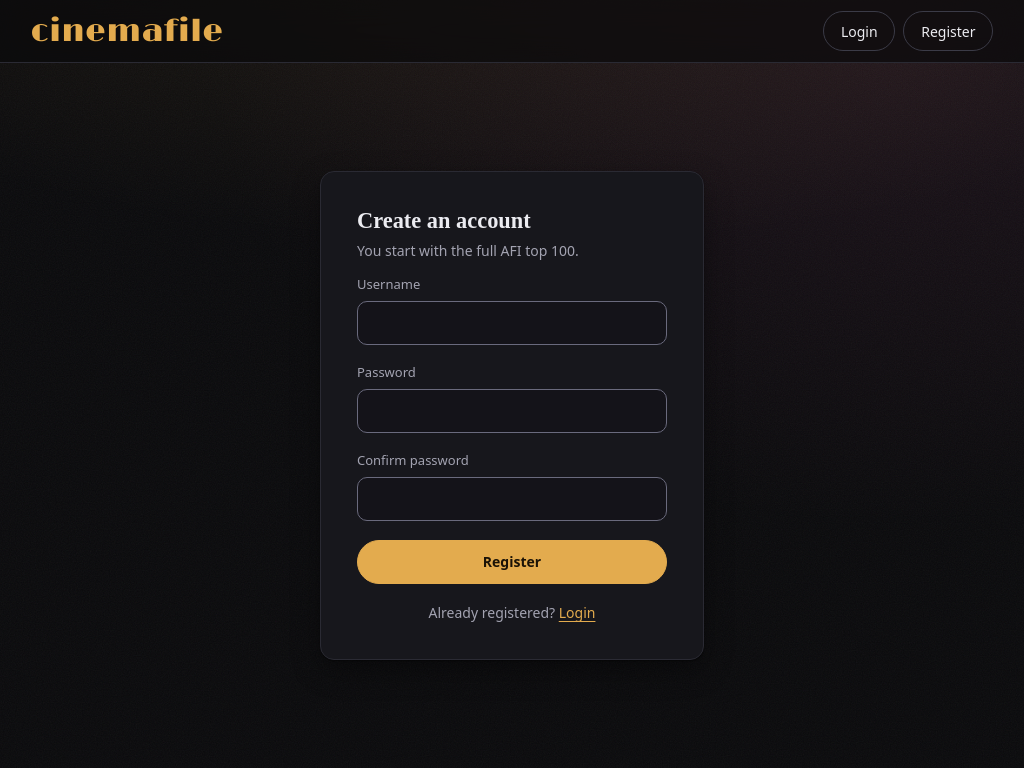
Scenario: RegistrationForm › rejects a short password without troubling the server
The image size is (1024, 768).
Type "alice" into the field labelled "Username". click: [512, 323]
box: x1=357 y1=301 x2=667 y2=345
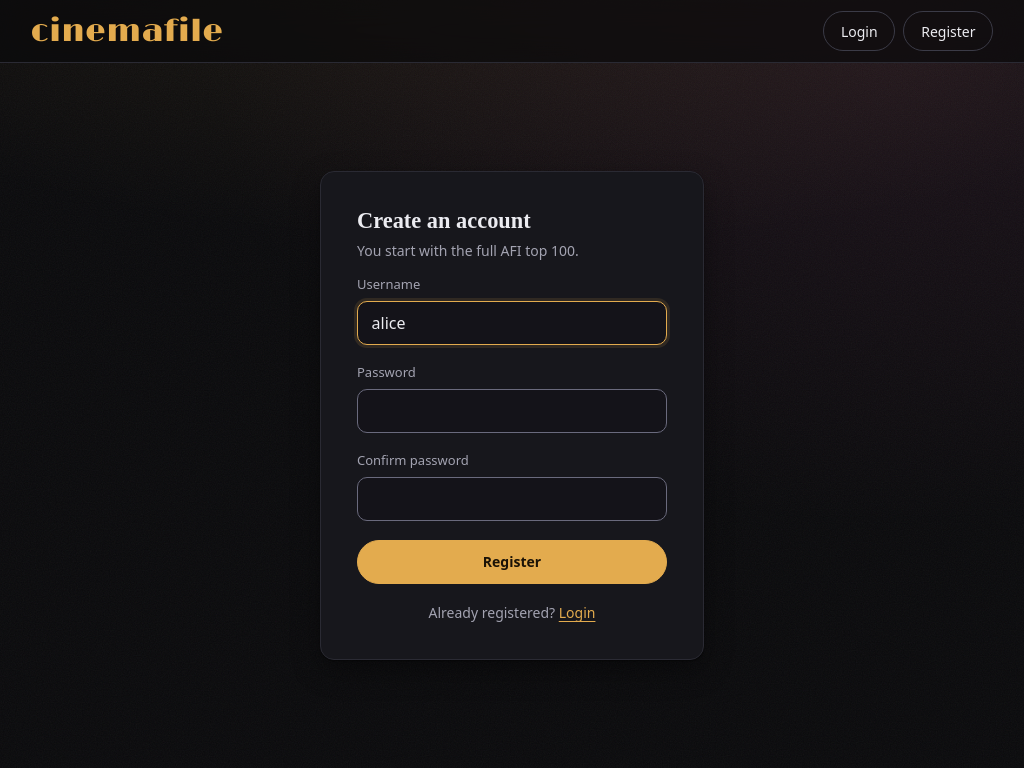
Type "short" into the password field labelled "Password". click: [512, 411]
box: x1=357 y1=389 x2=667 y2=433
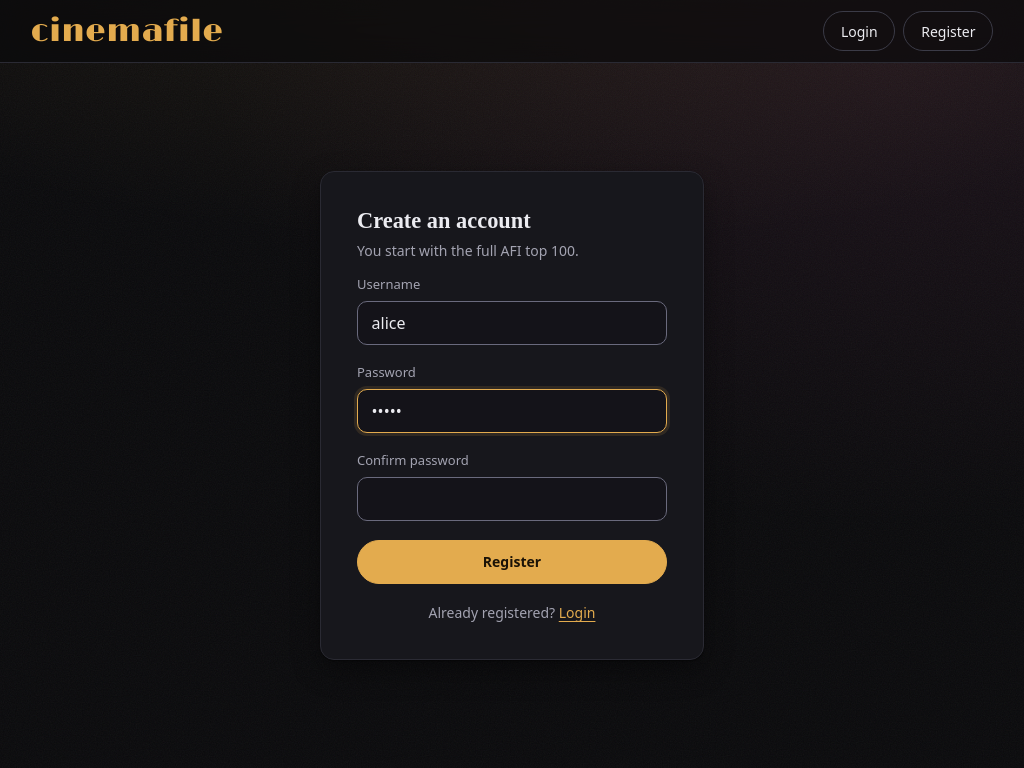
Type "short" into the password field labelled "Confirm password". click: [512, 499]
box: x1=357 y1=477 x2=667 y2=521
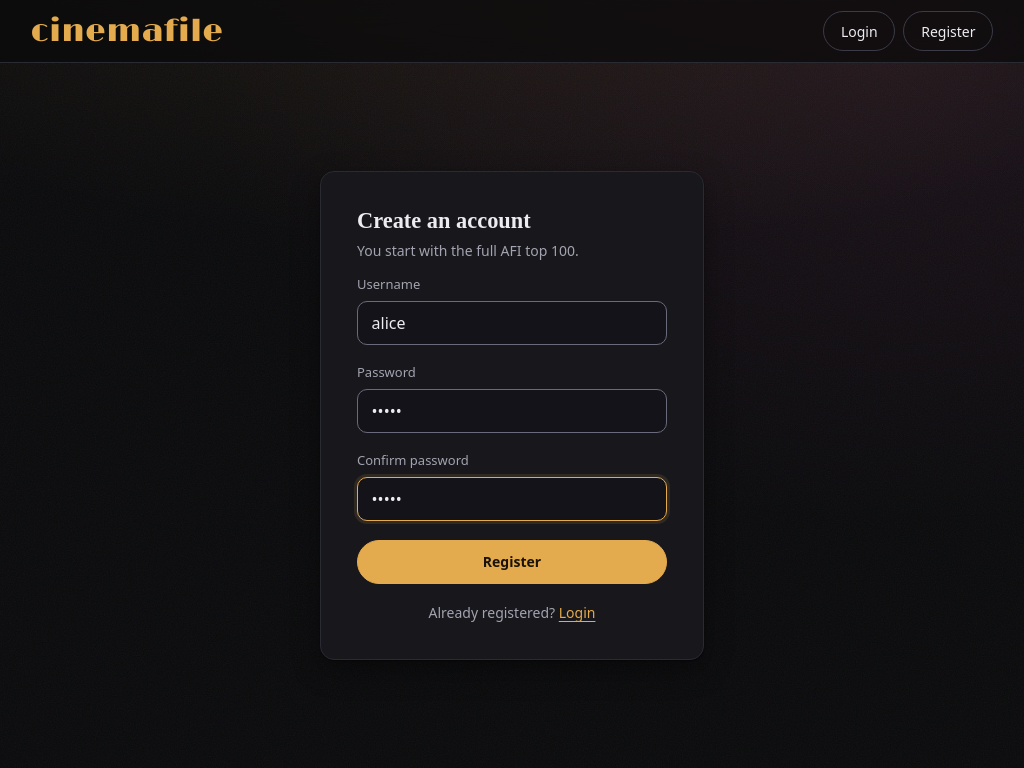
Click the button "Register". click: [512, 562]
box: x1=357 y1=540 x2=667 y2=584
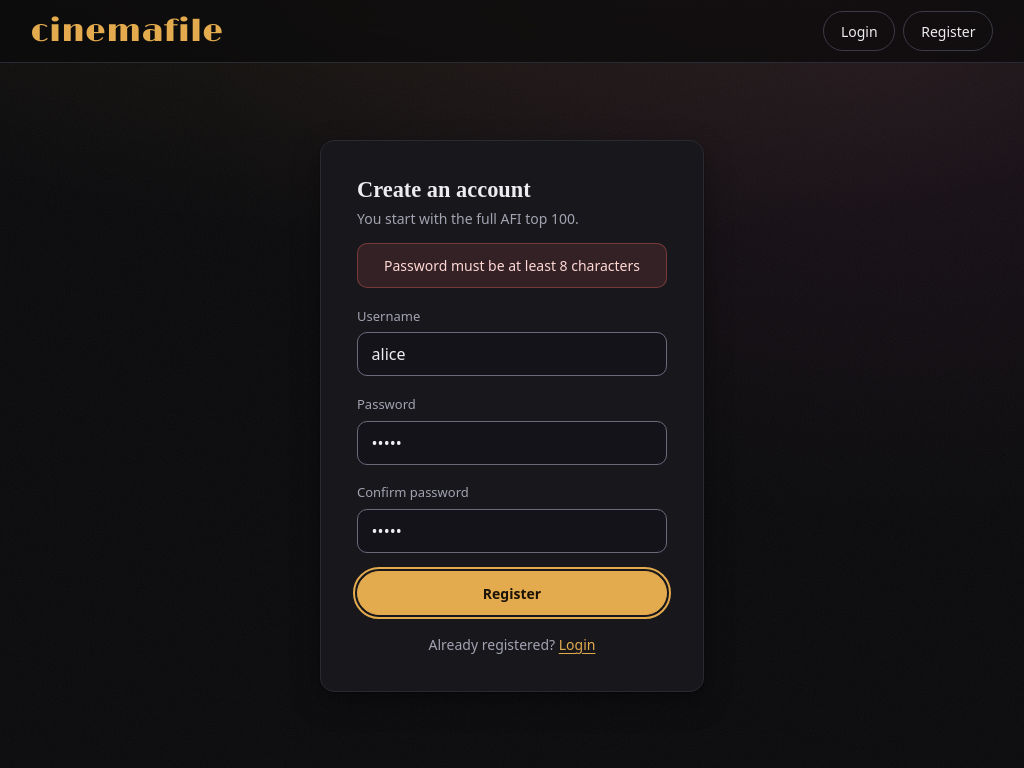
expect the message shows "at least 8": met, box x1=384 y1=256 x2=640 y2=275
